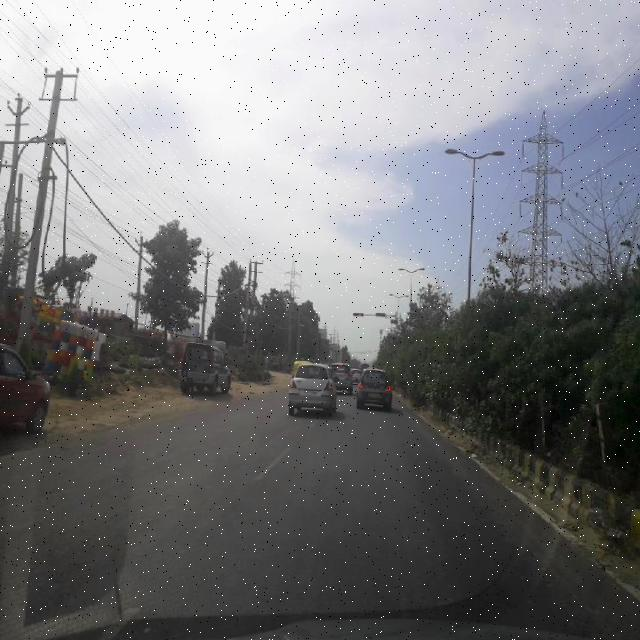D20: (6, 443, 516, 610)
